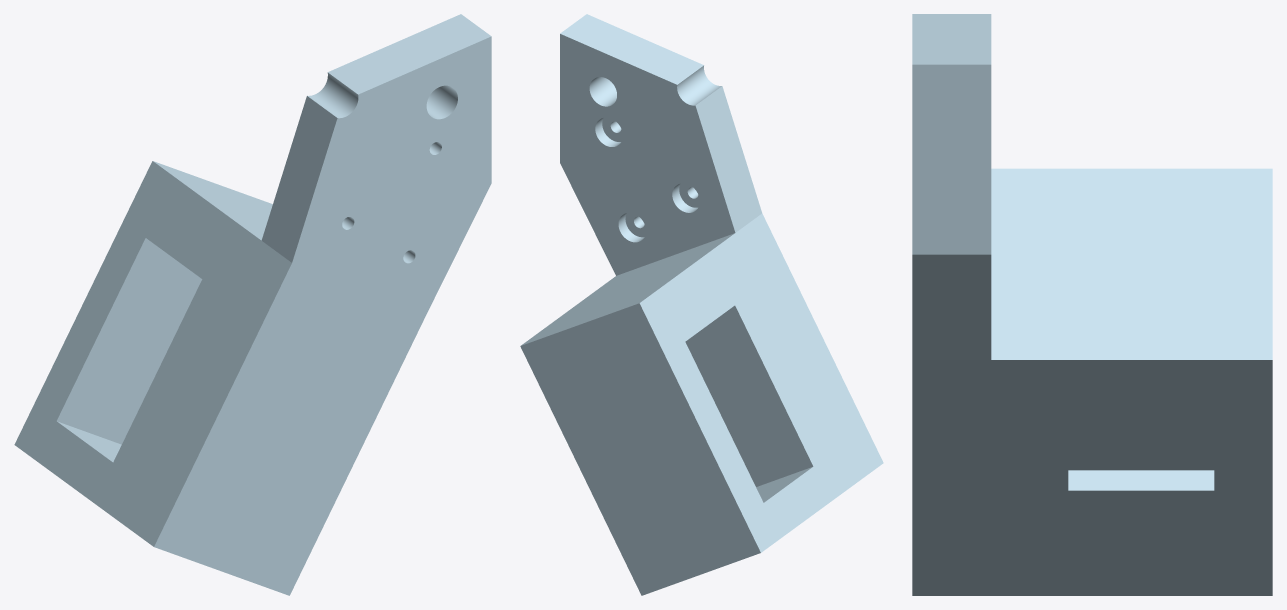
3 views of the same model, side by side, from view 1: azimuth 30°, elevation 25°; view 2: azimuth 150°, elevation 25°; view 3: azimuth 270°, elevation 25° (orthographic). The views are drawn at different scales.
Visible parts, largest first — view 1: mesh210, mesh214, mesh220, mesh200, mesh197, mesh201, mesh196, mesh194, mesh215; view 2: mesh202, mesh214, mesh195, mesh221, mesh201, mesh200, mesh197, mesh196, mesh194, mesh215; view 3: mesh219, mesh201, mesh198, mesh199, mesh197, mesh223.
Part boxes in pixels (box(x1,y1,x2,y2)): mesh210: box(154, 36, 491, 595); mesh214: box(14, 161, 291, 546); mesh220: box(57, 238, 202, 444); mesh200: box(261, 96, 337, 262); mesh197: box(328, 14, 491, 94); mesh201: box(153, 161, 272, 240); mesh196: box(307, 72, 358, 118); mesh194: box(426, 85, 457, 119); mesh215: box(57, 421, 121, 462); mesh202: box(520, 303, 760, 595); mesh214: box(639, 213, 883, 552); mesh195: box(560, 34, 735, 275); mesh221: box(685, 305, 813, 486); mesh201: box(521, 233, 734, 345); mesh200: box(695, 86, 761, 232); mesh197: box(560, 14, 703, 84); mesh196: box(677, 65, 721, 105); mesh194: box(589, 77, 616, 106); mesh215: box(756, 467, 812, 502); mesh219: box(912, 360, 1272, 595); mesh201: box(991, 168, 1272, 359); mesh198: box(912, 64, 991, 254); mesh199: box(912, 254, 991, 359); mesh197: box(912, 14, 991, 64); mesh223: box(1068, 470, 1214, 490).
Size of the model in its own units: 0.0862 by 0.1245 by 0.0617.
